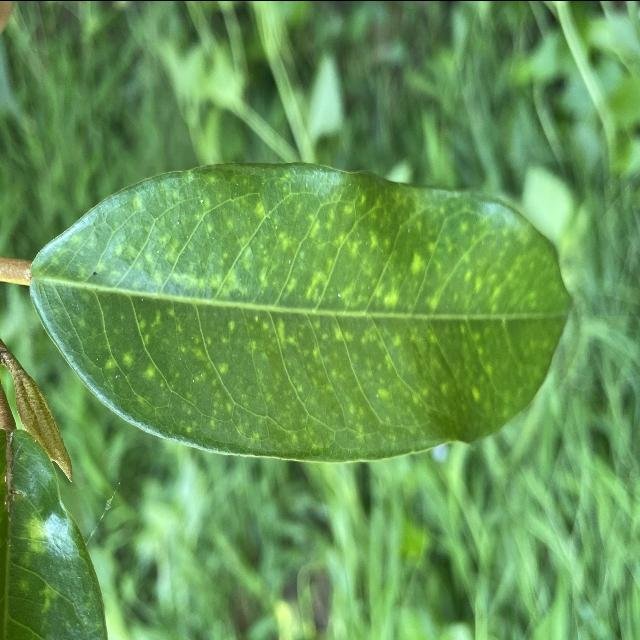Leaf Spot: (21, 145, 576, 477)
